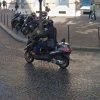Motorcycle: (13, 28, 79, 76)
